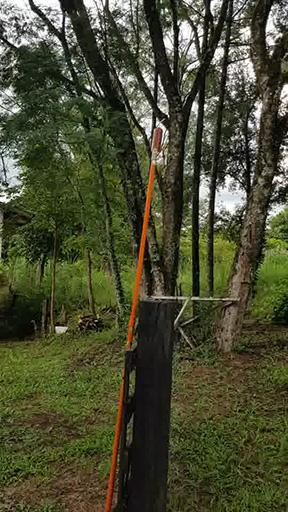Detector_Tensao_Contato: (150, 117, 166, 156)
Vara_Manobra: (104, 154, 158, 512)
